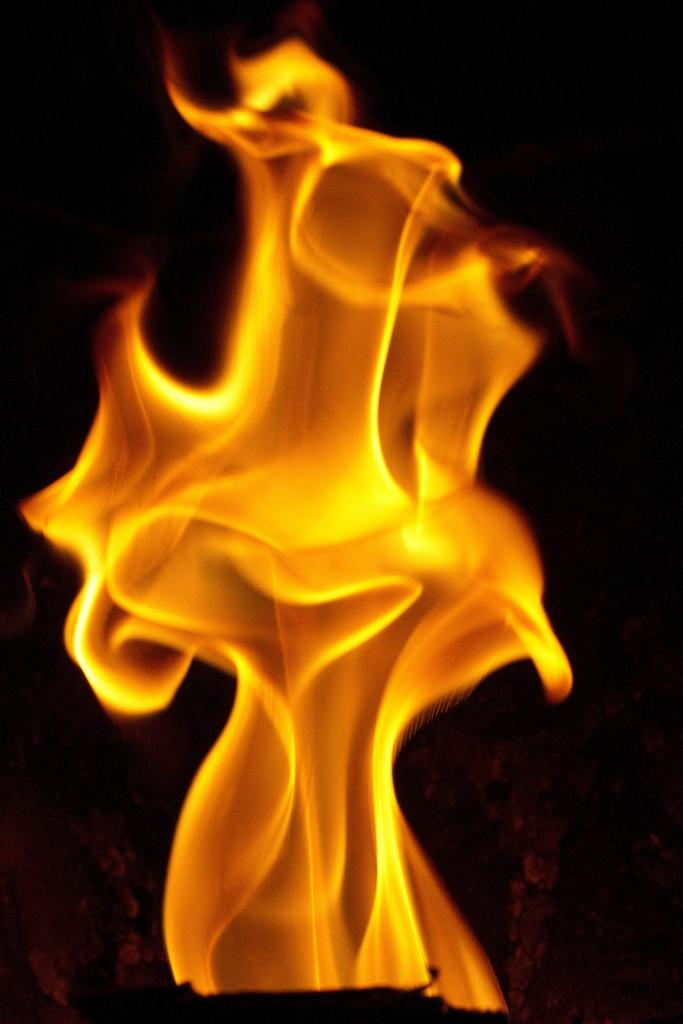fire: (115, 382, 507, 670), (240, 80, 467, 375), (232, 685, 425, 968)
